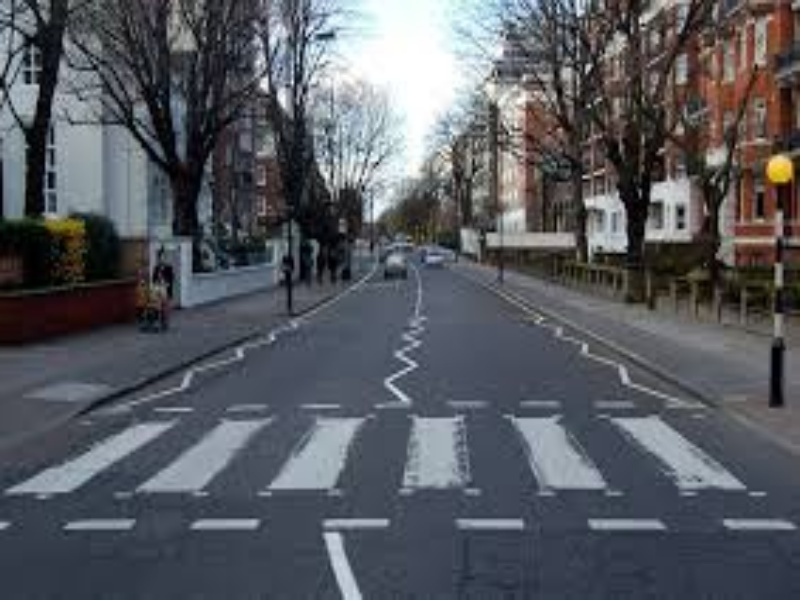zebra cross: (10, 412, 751, 496)
